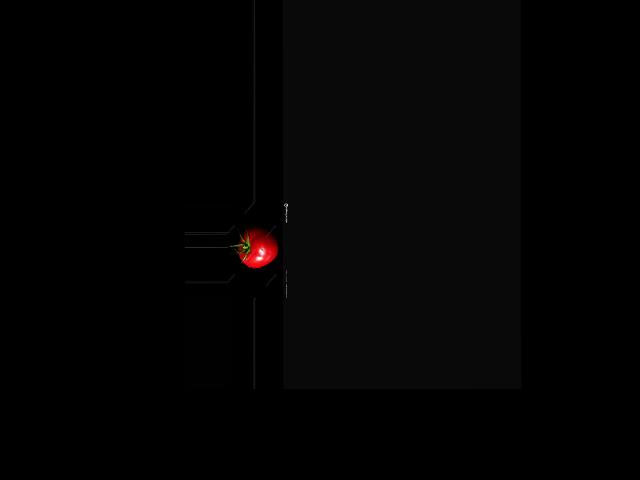tomato: (237, 226, 278, 268)
